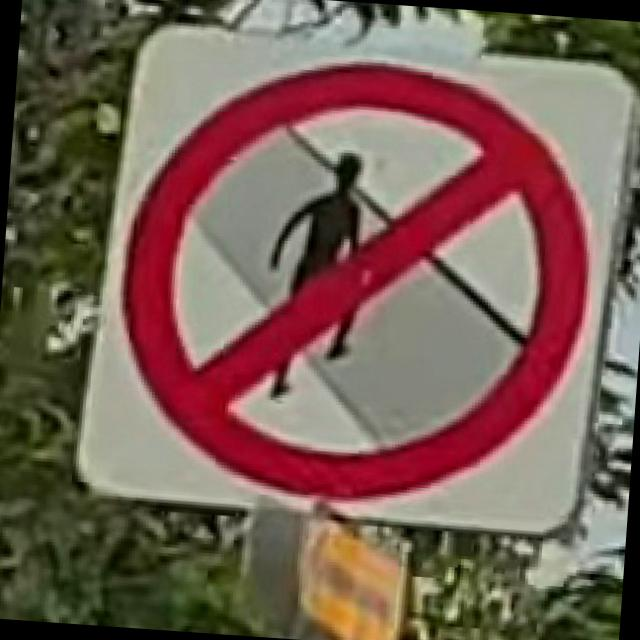nojaywalking_sign: (66, 8, 640, 545)
